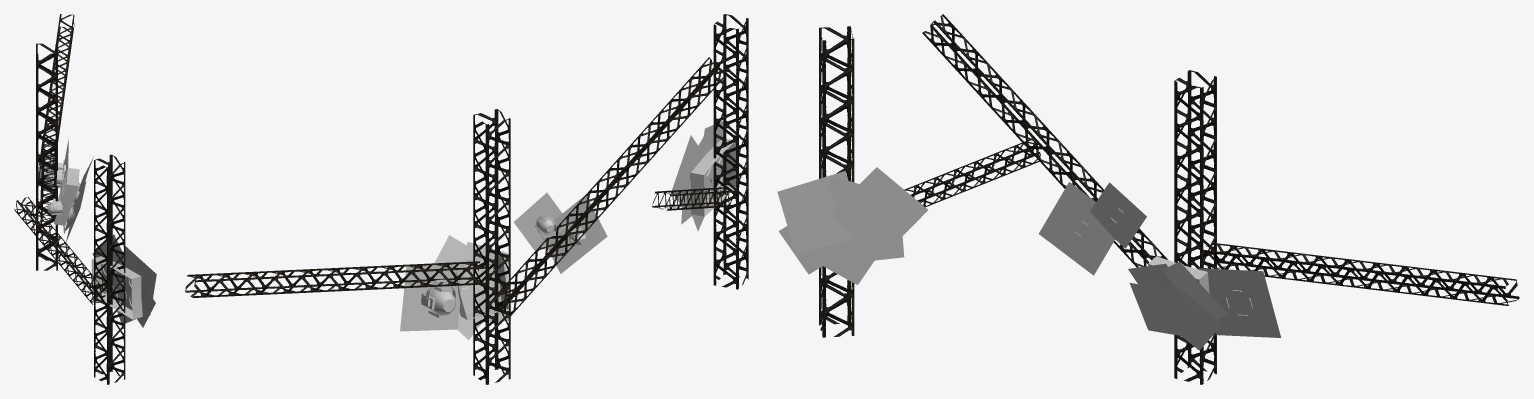
The model's file is circus_scaffolding_with_lights_02.FBX.
The picture shows the model from 3 angles, left to right: view 1: azimuth 30°, elevation 25°; view 2: azimuth 150°, elevation 25°; view 3: azimuth 270°, elevation 25°; orthographic projection. The views are drawn at different scales.
Visible parts, largest first — view 1: circus_scaffolding_04, circus_light_panel_02, circus_light_panel_03, circus_spotlight_02, circus_spotlight_03, circus_spotlight_04; view 2: circus_scaffolding_04, circus_light_panel_02, circus_spotlight_02, circus_light_panel_03, circus_spotlight_03, circus_spotlight_04; view 3: circus_scaffolding_04, circus_light_panel_02, circus_light_panel_03, circus_spotlight_02, circus_spotlight_03, circus_spotlight_04.
Part boxes in pixels (box(x1,y1,x2,y2)): circus_scaffolding_04: box(14, 14, 125, 384); circus_light_panel_02: box(91, 234, 156, 327); circus_light_panel_03: box(53, 157, 93, 242); circus_spotlight_02: box(38, 137, 68, 190); circus_spotlight_03: box(47, 181, 65, 233); circus_spotlight_04: box(46, 159, 64, 191); circus_scaffolding_04: box(185, 14, 748, 384); circus_light_panel_02: box(672, 119, 736, 230); circus_spotlight_02: box(400, 264, 463, 331); circus_light_panel_03: box(434, 235, 510, 340); circus_spotlight_03: box(540, 195, 607, 273); circus_spotlight_04: box(514, 192, 568, 250); circus_scaffolding_04: box(819, 14, 1519, 384); circus_light_panel_02: box(777, 167, 927, 285); circus_light_panel_03: box(1128, 256, 1227, 350); circus_spotlight_02: box(1198, 268, 1281, 337); circus_spotlight_03: box(1039, 182, 1114, 275); circus_spotlight_04: box(1090, 182, 1146, 248).
Bounding box in the file's own units: 274 × 236 × 533.
